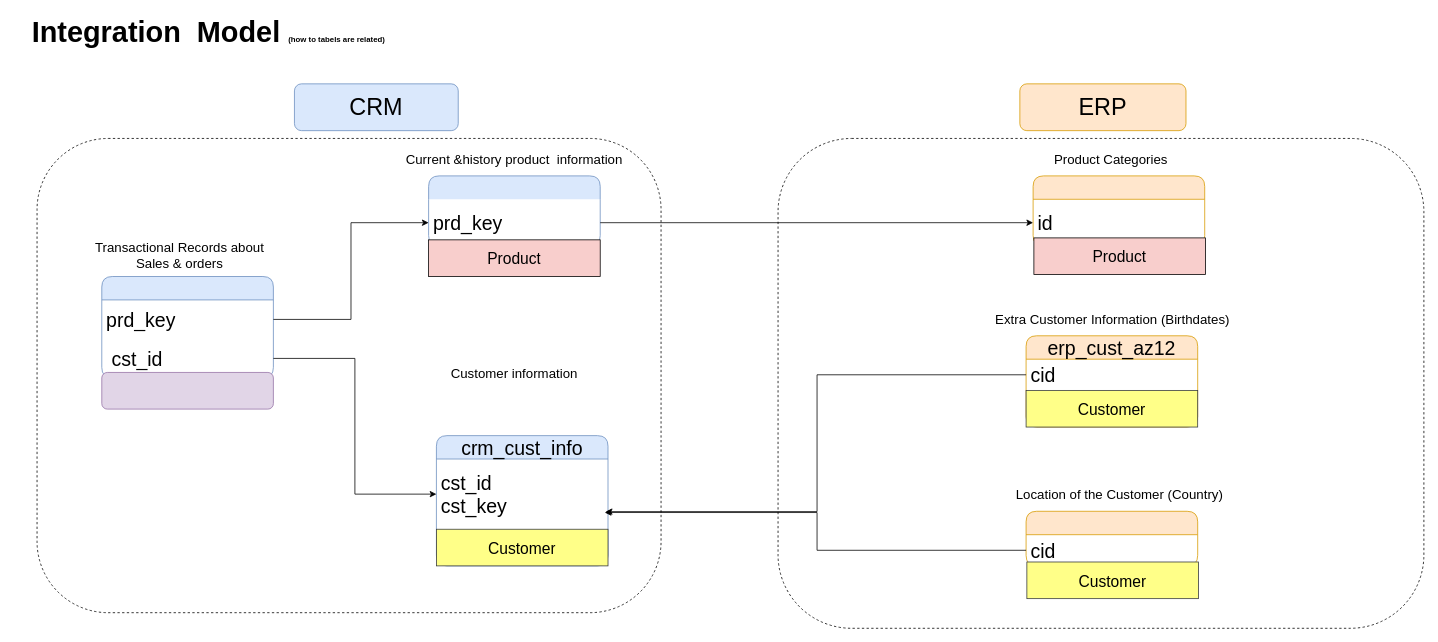
Image size: 1438x642. Some labels were removed from this diagram. Each missing label, with the box of its shape:
crm_prd_info: (428, 175, 600, 246)
crm_sales_details: (101, 276, 273, 378)
erp_loc_a101: (1025, 511, 1198, 566)
erp_px_cat_g1v2: (1032, 175, 1205, 246)
Sales: (101, 372, 273, 409)
